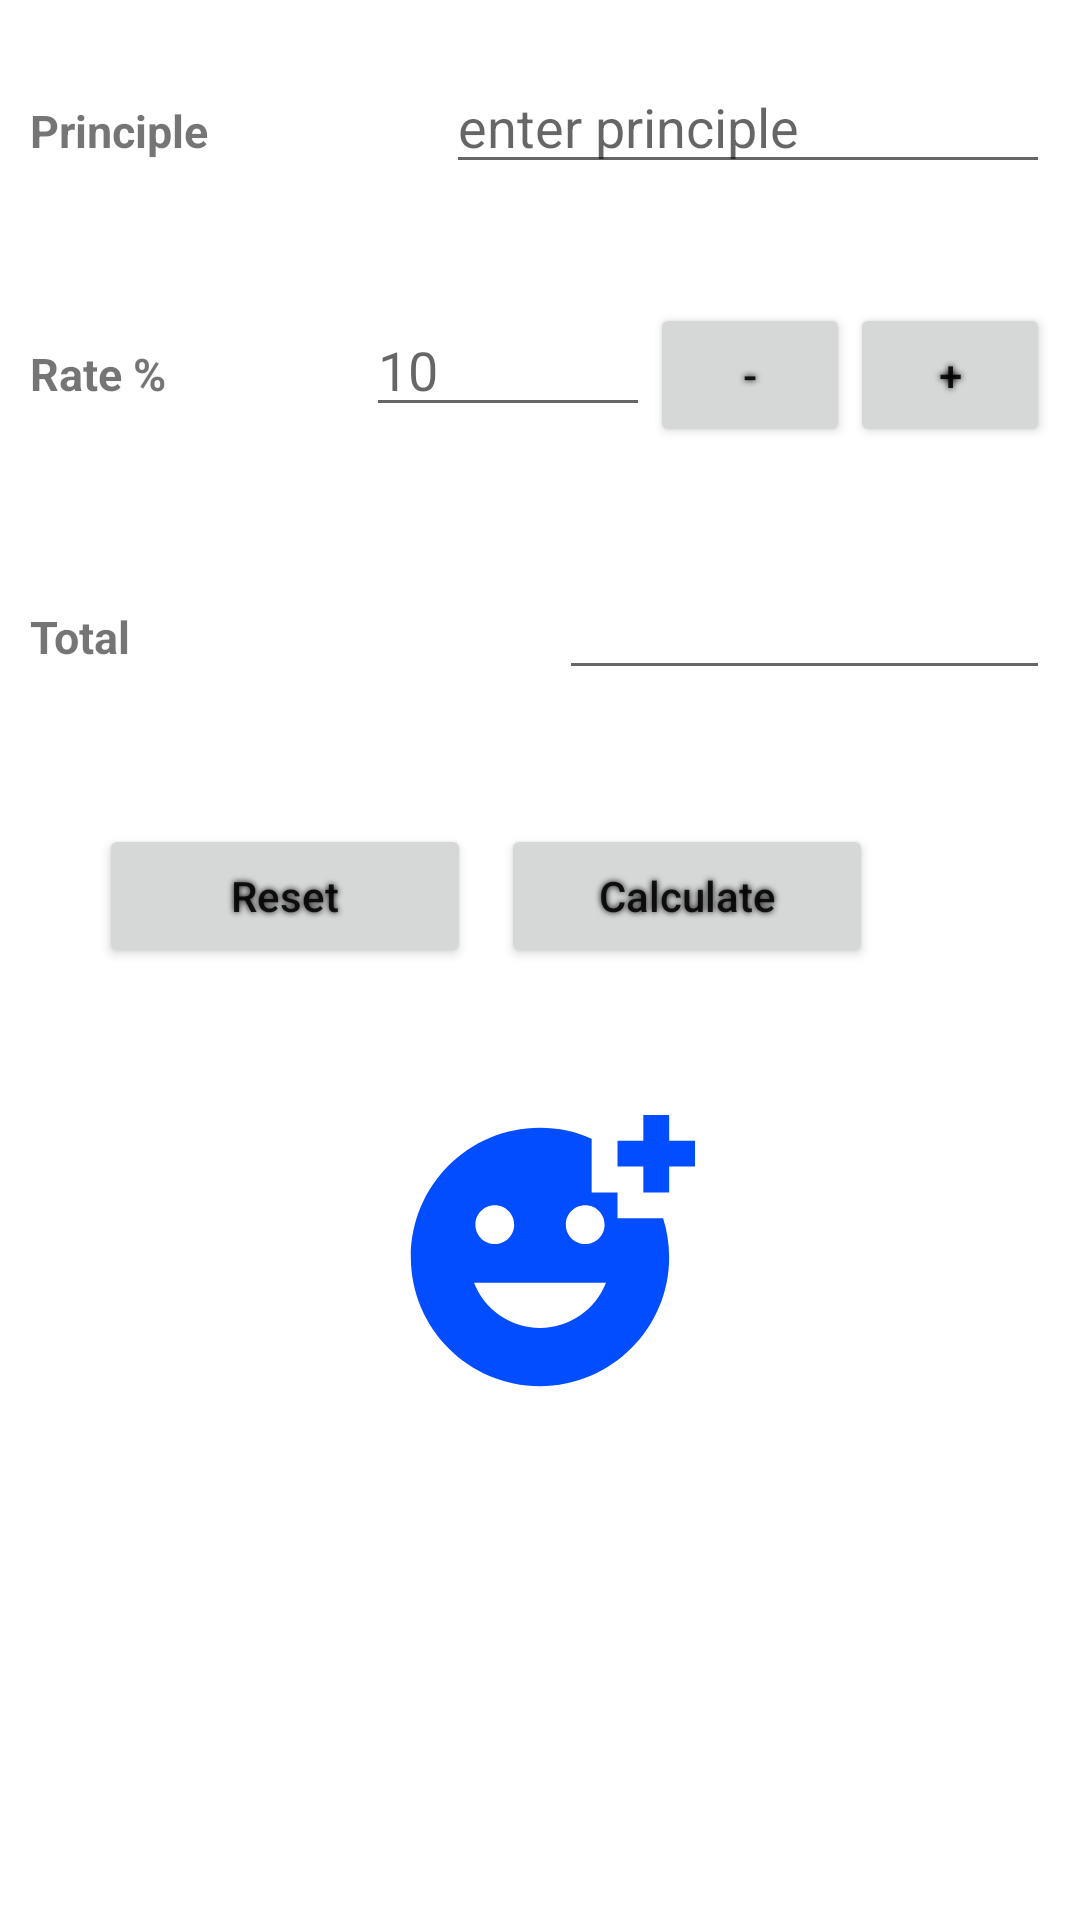

Screen size 1080x1920. Icon name, then its box in pixels as rect(x1, y1, x2, y2):
add reaction: rect(410, 1115, 695, 1387)
